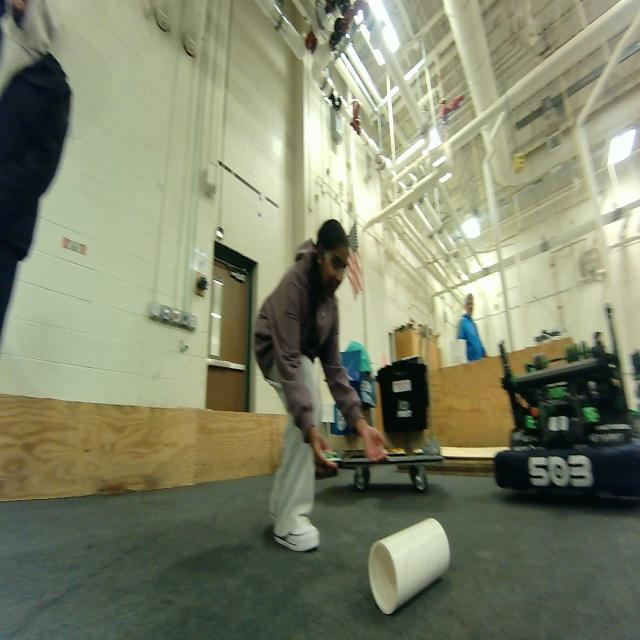coral: (366, 512, 454, 614)
